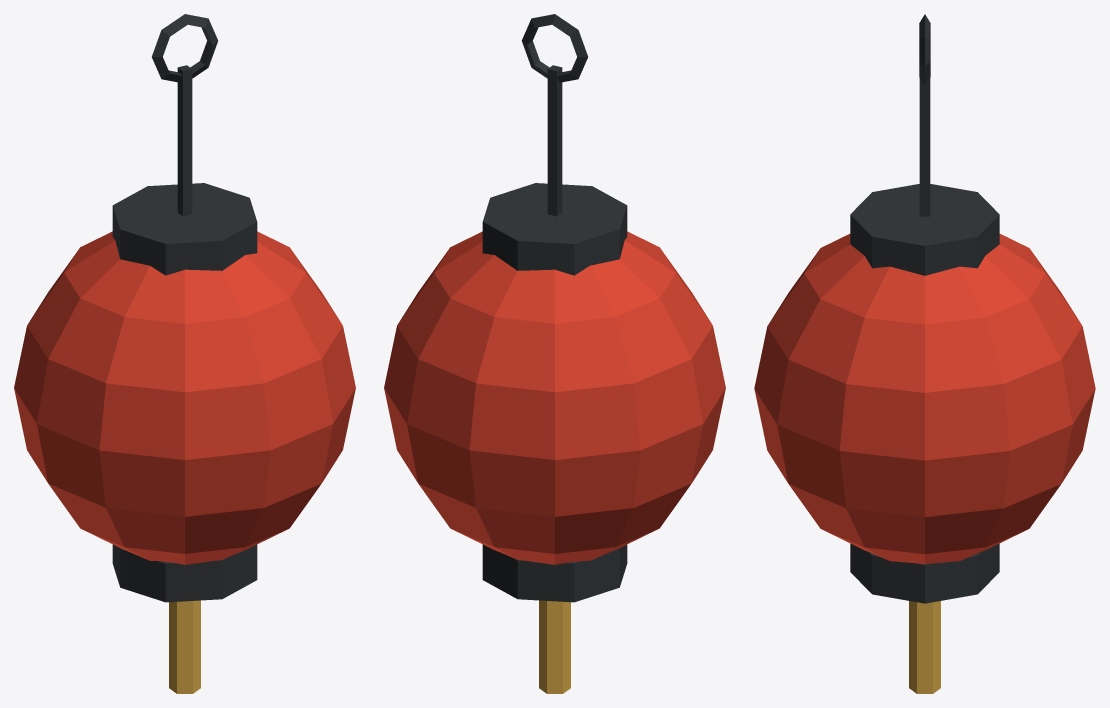
File: vil_lantern_hang_v01.glb
The picture shows the model from 3 angles, left to right: view 1: azimuth 30°, elevation 25°; view 2: azimuth 150°, elevation 25°; view 3: azimuth 270°, elevation 25°; orthographic projection.
Visible parts, largest first — view 1: lantern_hang; view 2: lantern_hang; view 3: lantern_hang.
Part boxes in pixels (x1=…): lantern_hang: x1=14, y1=14, x2=355, y2=693; lantern_hang: x1=384, y1=14, x2=725, y2=693; lantern_hang: x1=754, y1=14, x2=1095, y2=693.
Size of the model in its own units: 0.32 by 0.696 by 0.32.
